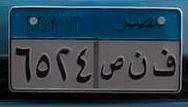2: (56, 45, 73, 81)
4: (75, 46, 92, 86)
5: (35, 51, 52, 79)
6: (16, 44, 33, 81)
faa: (152, 48, 179, 77)
noon: (128, 50, 148, 82)
saad: (101, 53, 125, 79)
